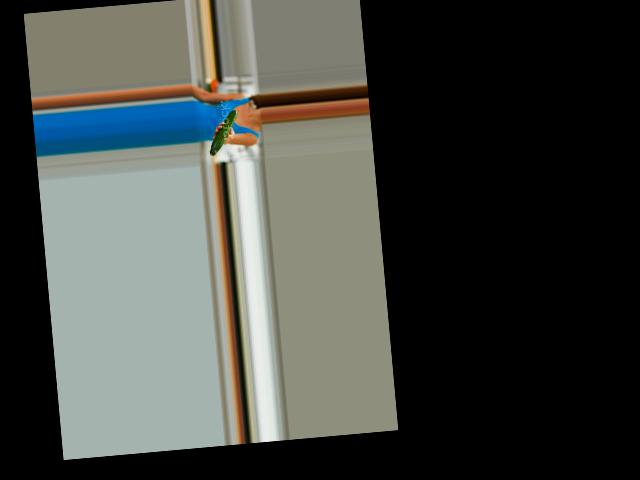cucumber: (205, 109, 240, 155)
